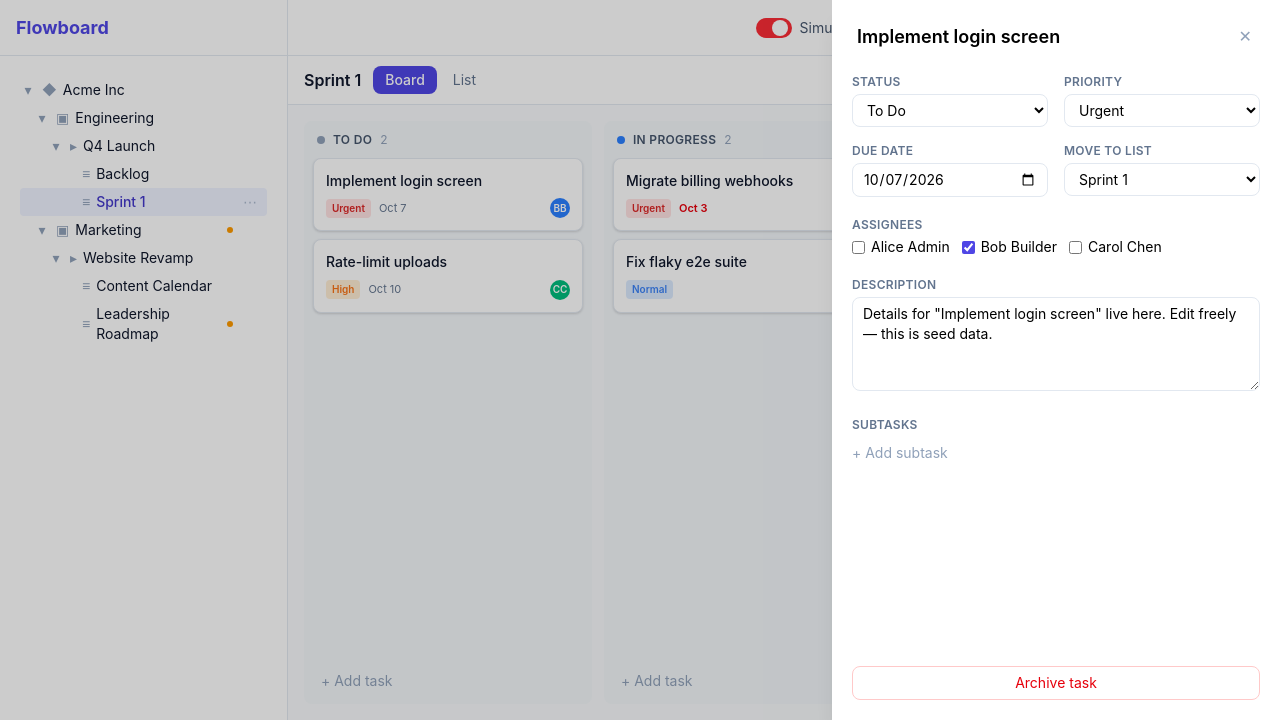
Scenario: a failed title commit reverts the field and shows an error toast
Replace the text in the field showing "Implement login screen" with "Will not save": (1037, 37) top-left (852, 20), bottom-right (1223, 54)
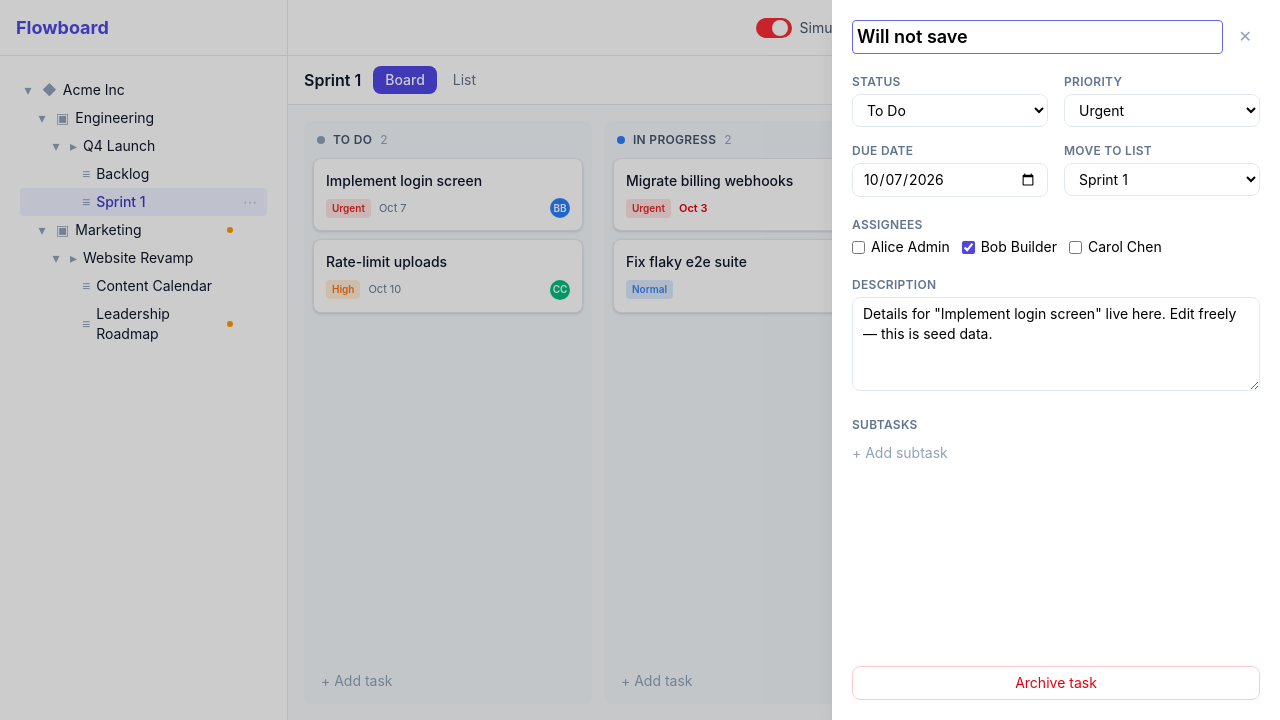
Press Tab
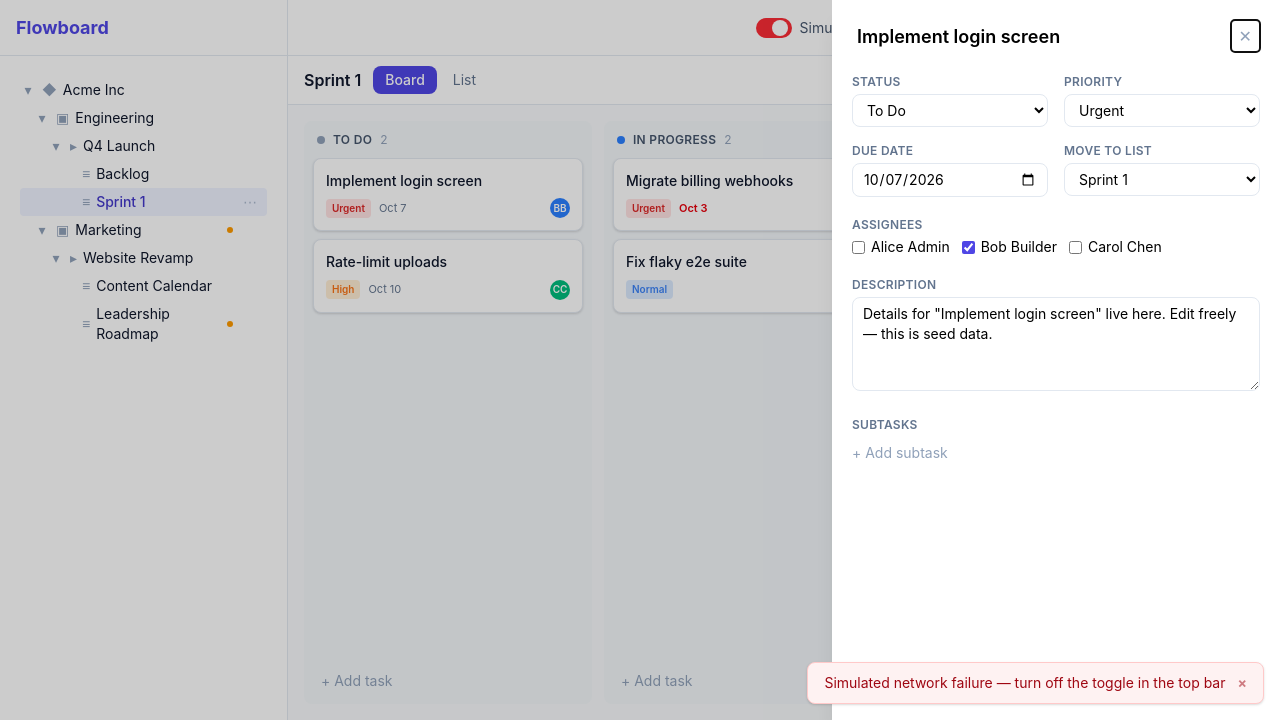
Expected: the message shows "Simulated network failure", top-left (824, 674), bottom-right (1226, 691)
Click the button named "Dismiss": (1242, 683) top-left (1238, 673), bottom-right (1247, 693)
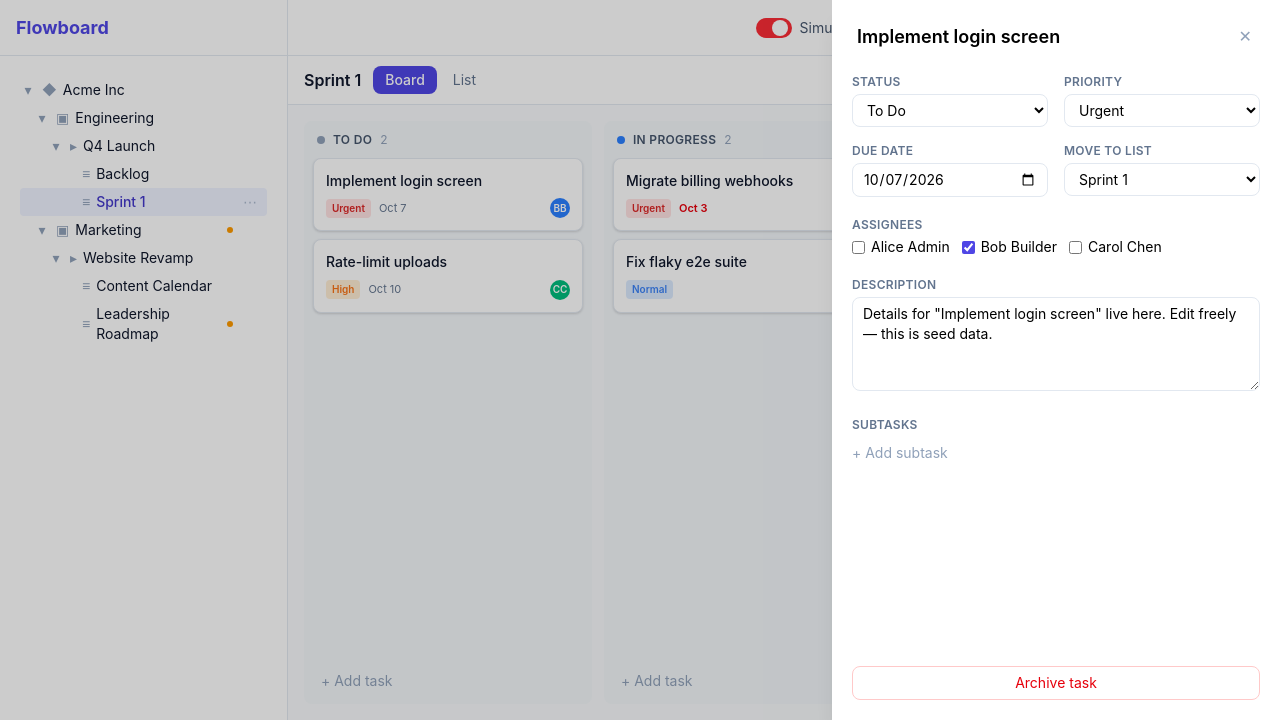
Expected: the text "Implement login screen" is shown, top-left (326, 172), bottom-right (482, 189)
Expected: the field showing "Implement login screen" is shown, top-left (852, 20), bottom-right (1223, 54)
Expected: the message "Simulated network failure — turn off the toggle in the top bar ×" is gone
